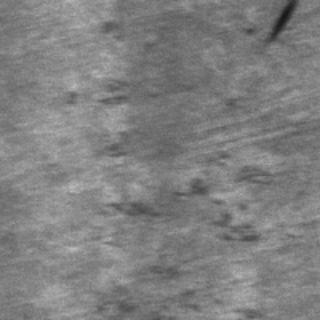rolled pit: (69, 136, 273, 252), (58, 17, 154, 154)
